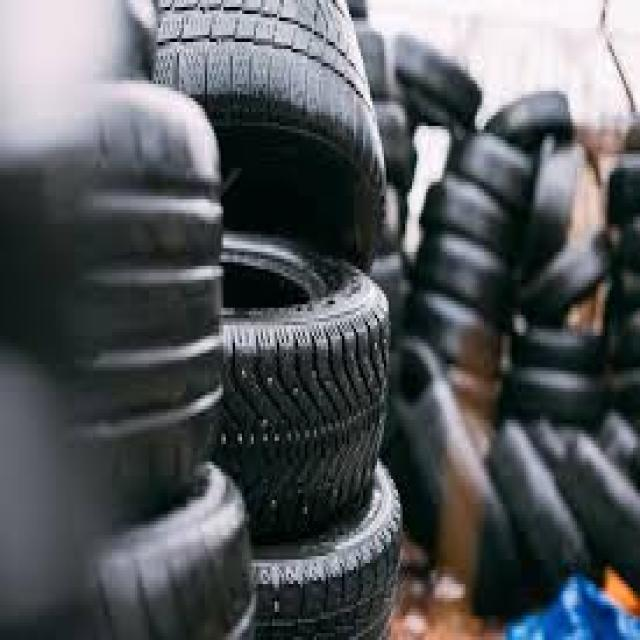Rubber -Non-Biodegradable but Recyclable-: (77, 1, 640, 640)
